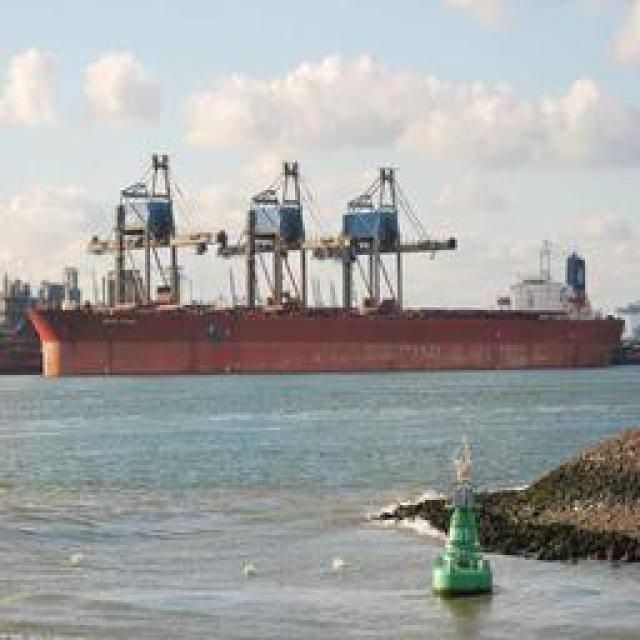Ship: (16, 151, 621, 376)
